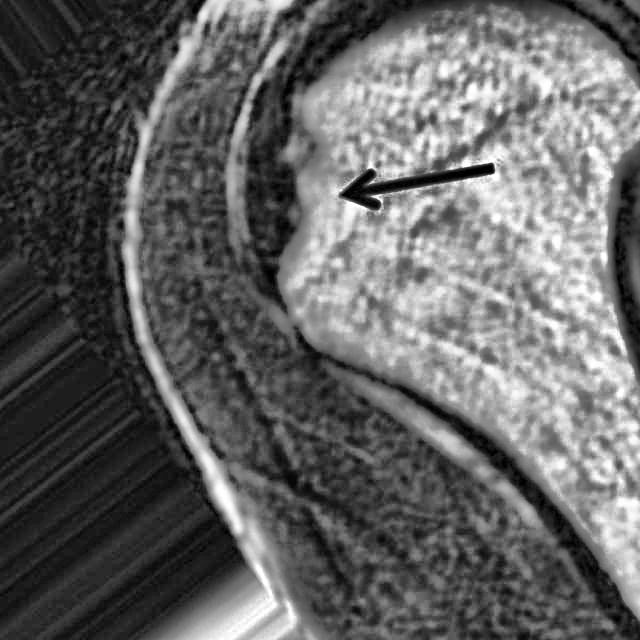Comminuted: (230, 83, 334, 299)
